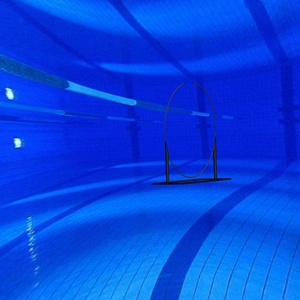circle: (151, 80, 234, 187)
